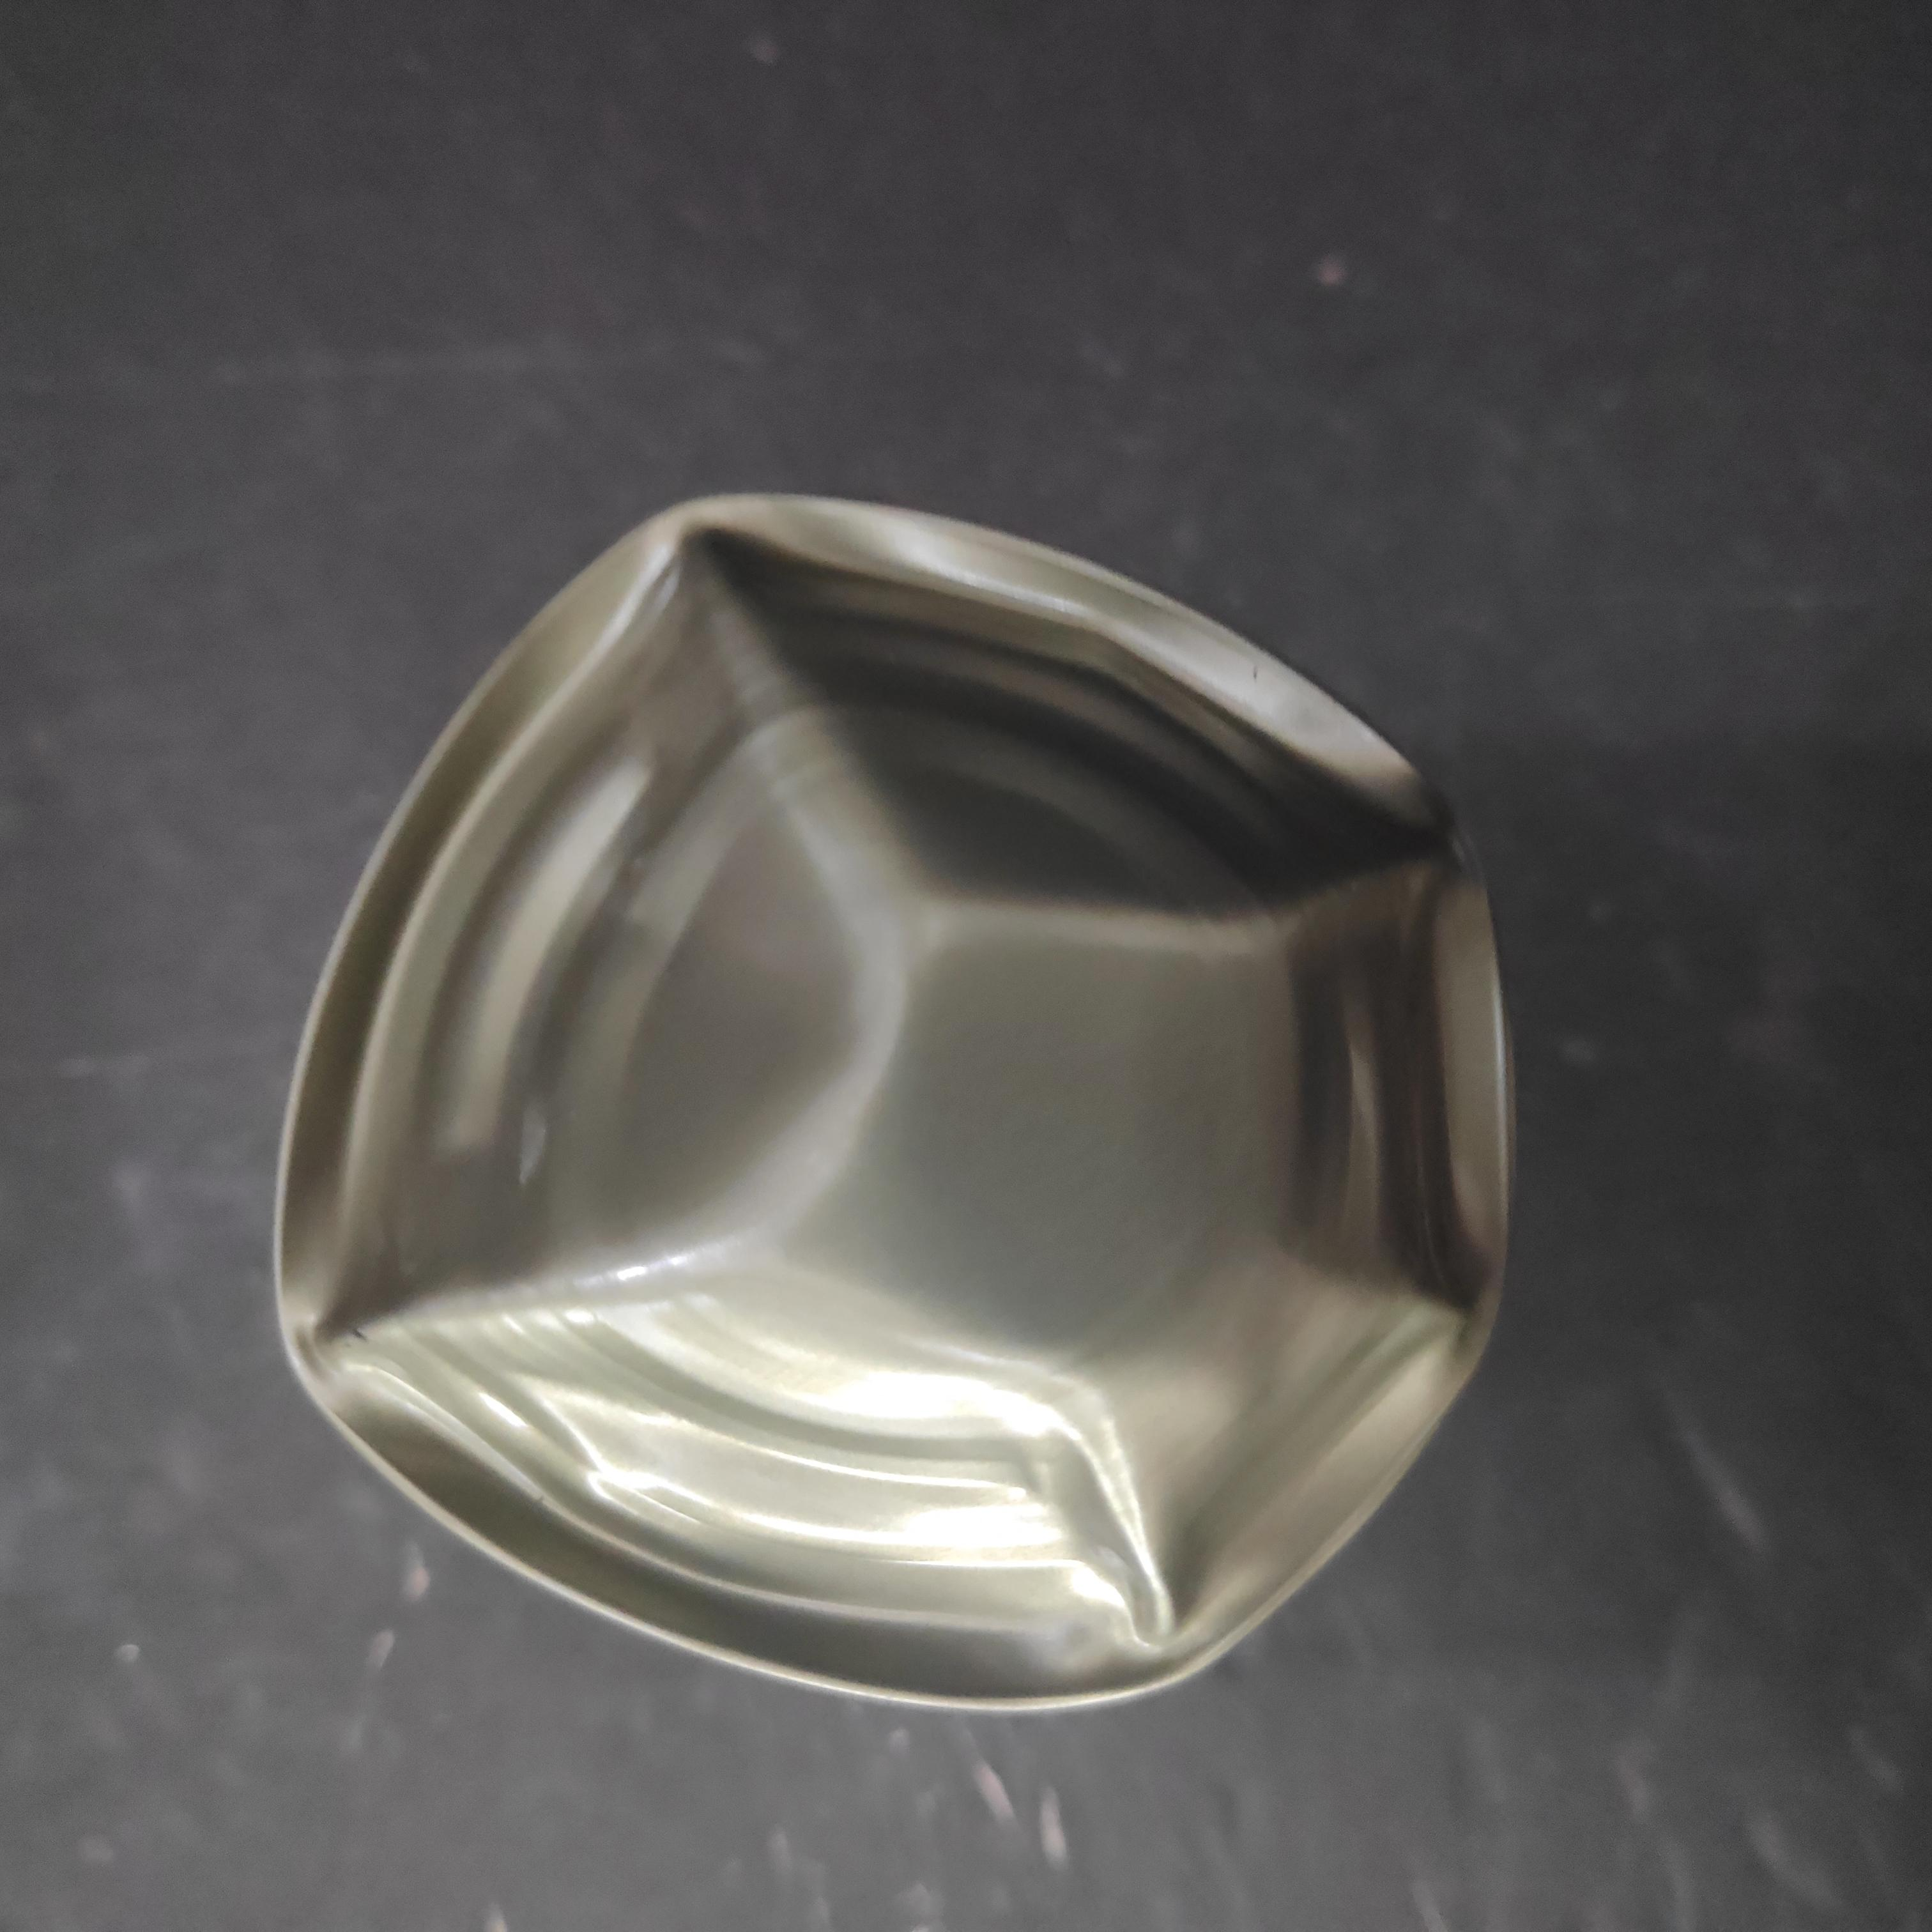Critical Defect: (206, 247, 1475, 1517)
